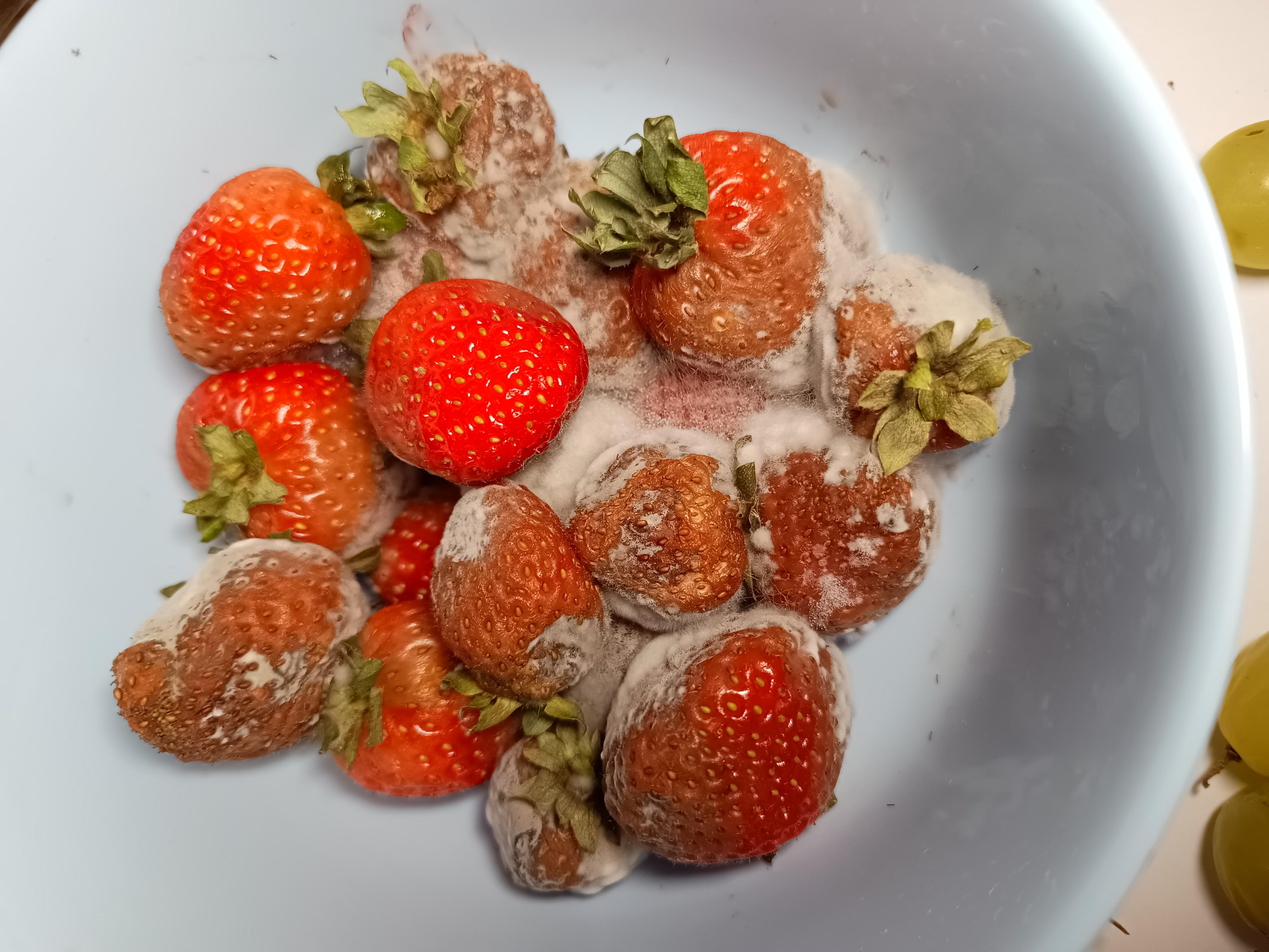strawberry: (367, 486, 470, 603)
